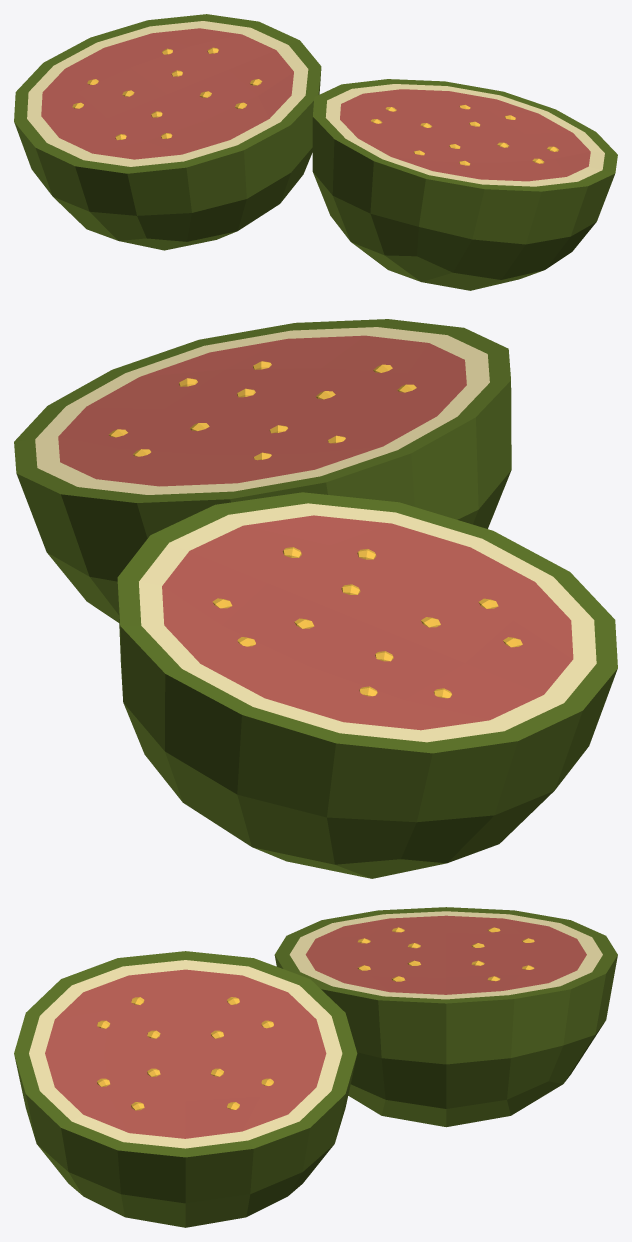
The model's file is Guava Sliced.fbx.
3 views of the same model, one above another, from view 1: azimuth 30°, elevation 25°; view 2: azimuth 150°, elevation 25°; view 3: azimuth 270°, elevation 25° (orthographic). The views are drawn at different scales.
Visible parts, largest first — view 1: Guava Sliced; view 2: Guava Sliced; view 3: Guava Sliced.
Boxes of the visible parts, bbox=[...] form: Guava Sliced: bbox=[14, 14, 617, 290]; Guava Sliced: bbox=[14, 319, 617, 878]; Guava Sliced: bbox=[14, 907, 617, 1227].
Bounding box in the file's own units: 56.79 × 20.31 × 59.9.
